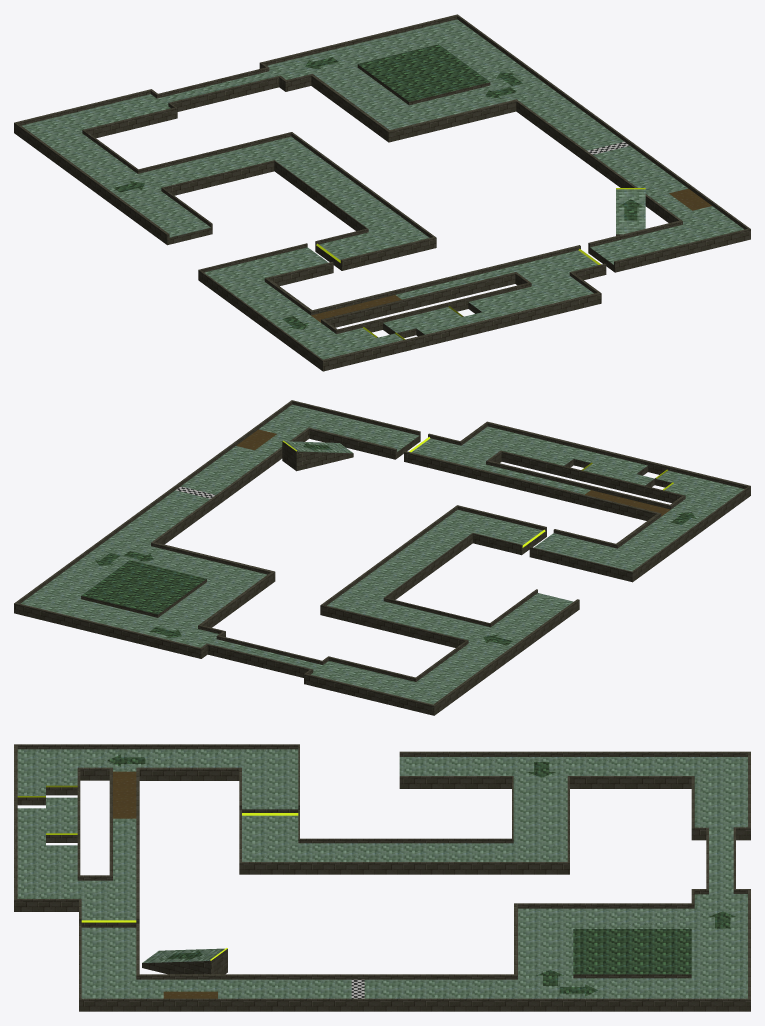
The picture shows the model from 3 angles, top to bottom: view 1: azimuth 30°, elevation 25°; view 2: azimuth 150°, elevation 25°; view 3: azimuth 270°, elevation 25°; orthographic projection. The views are drawn at different scales.
Parts seen in each view (by area): view 1: course-SKP--Road2, course-SKP--Wall.002, course-SKP--Road1, course-SKP--Dirt; view 2: course-SKP--Road2, course-SKP--Wall.002, course-SKP--Road1, course-SKP--Dirt; view 3: course-SKP--Road2, course-SKP--Wall.002, course-SKP--Road1, course-SKP--Dirt, course-SKP--Jump.
Boxes of the visible parts, <box> form: course-SKP--Road2: <box>22,19,743,359</box>; course-SKP--Wall.002: <box>14,14,750,371</box>; course-SKP--Road1: <box>114,44,642,329</box>; course-SKP--Dirt: <box>311,188,711,322</box>; course-SKP--Road2: <box>20,404,744,704</box>; course-SKP--Wall.002: <box>14,400,750,715</box>; course-SKP--Road1: <box>81,443,696,645</box>; course-SKP--Dirt: <box>236,429,670,516</box>; course-SKP--Road2: <box>17,749,747,998</box>; course-SKP--Wall.002: <box>14,744,750,1011</box>; course-SKP--Road1: <box>107,754,736,996</box>; course-SKP--Dirt: <box>113,771,217,998</box>; course-SKP--Jump: <box>17,785,298,960</box>.
Size of what is drawn, in the model's own units: 39681 by 1774 by 48450.
Materials: 6 (6 with a texture image).
